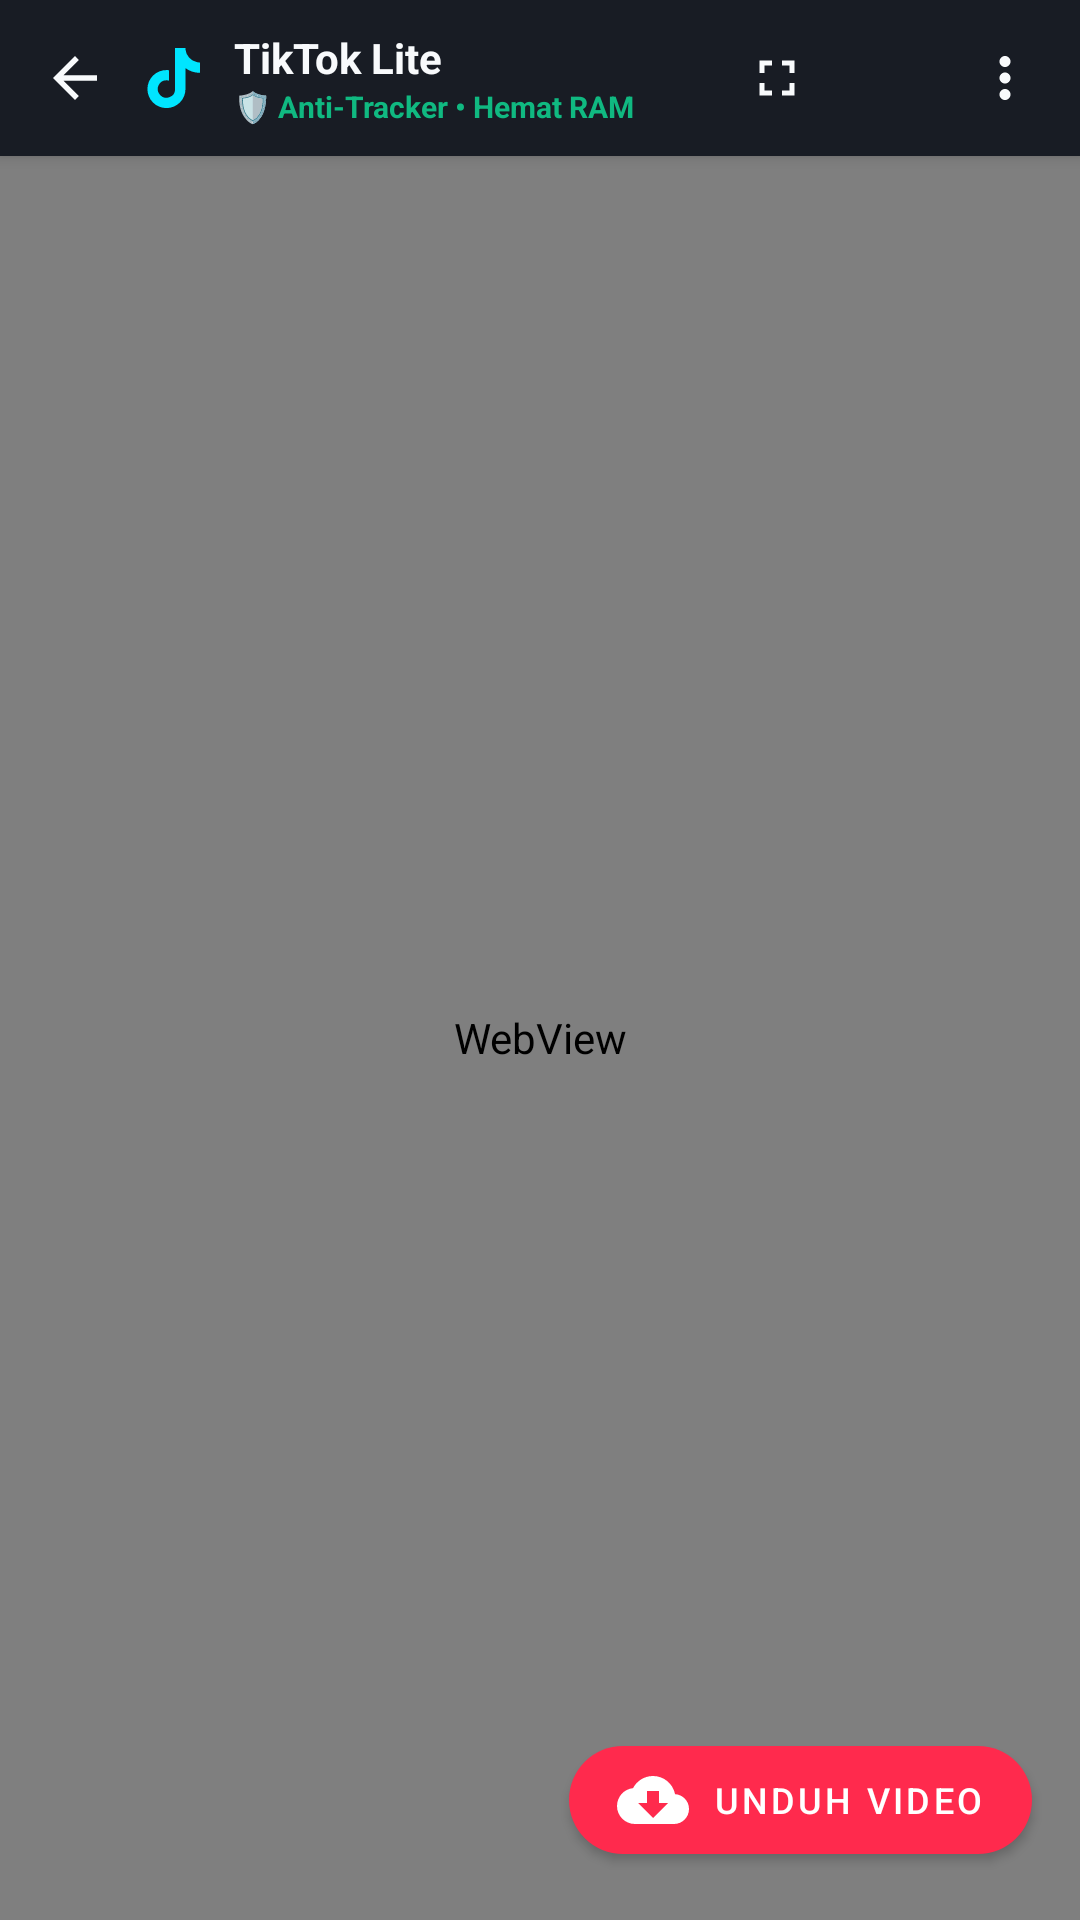

Icon click points for this 1080px x 1920px phone screenshot, format (x=x, y=y):
Kembali: (x=75, y=78)
Layar Penuh: (x=777, y=78)
Menu Opsi: (x=1005, y=78)
